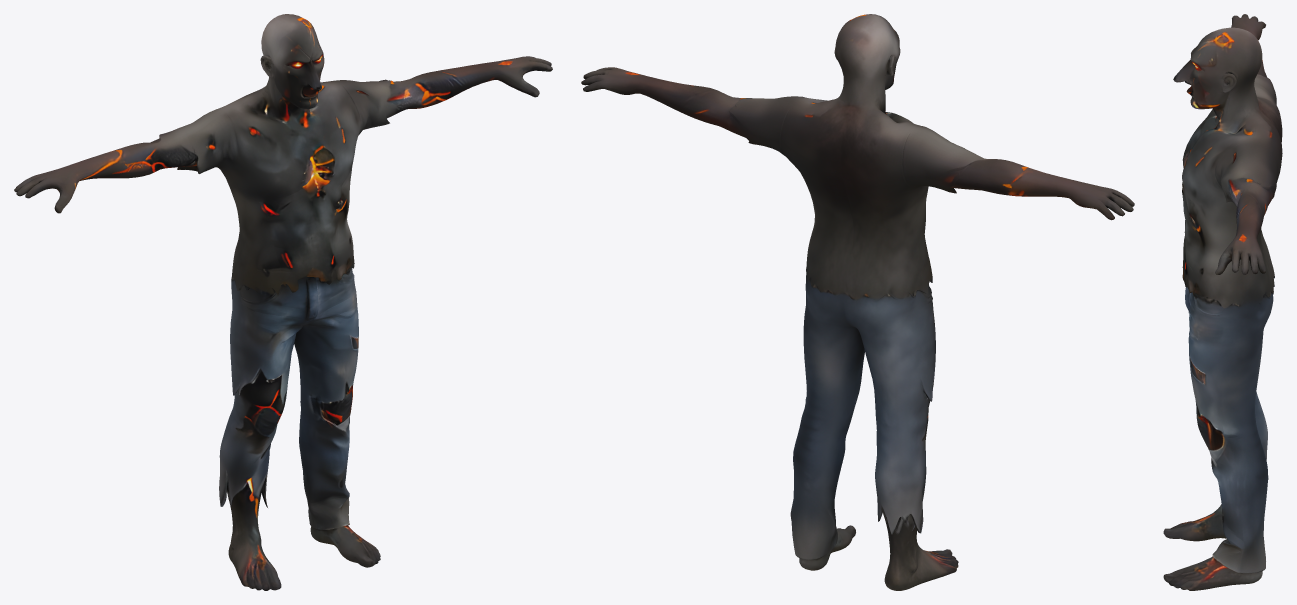
Rendered from base_basic_shaded.glb.
3 views of the same model, side by side, from view 1: azimuth 30°, elevation 25°; view 2: azimuth 150°, elevation 25°; view 3: azimuth 270°, elevation 25° (orthographic). The views are drawn at different scales.
Visible parts, largest first — view 1: model; view 2: model; view 3: model.
Part boxes in pixels (x1,y1,x2,y2): model: (14, 14, 552, 590); model: (581, 14, 1134, 590); model: (1163, 14, 1282, 590).
Size of the model in its own units: 1.83 by 1.76 by 0.3581.
Materials: 1 (1 with a texture image).
